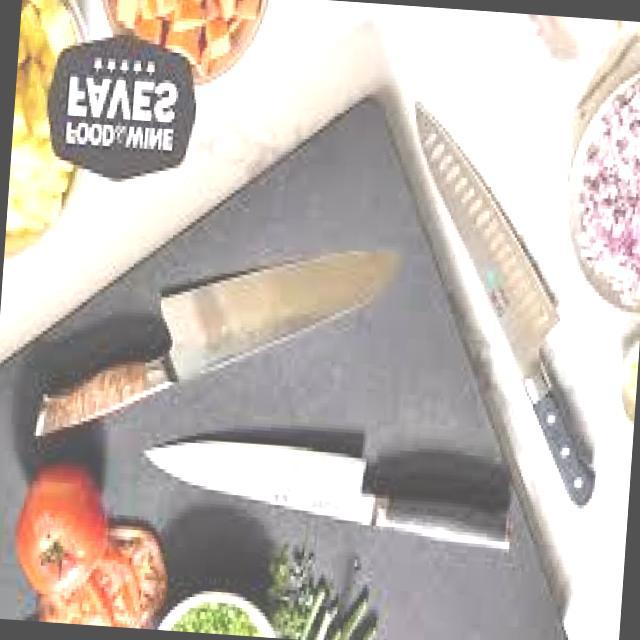Knife: (0, 170, 436, 488), (394, 64, 628, 532), (139, 408, 539, 572)
